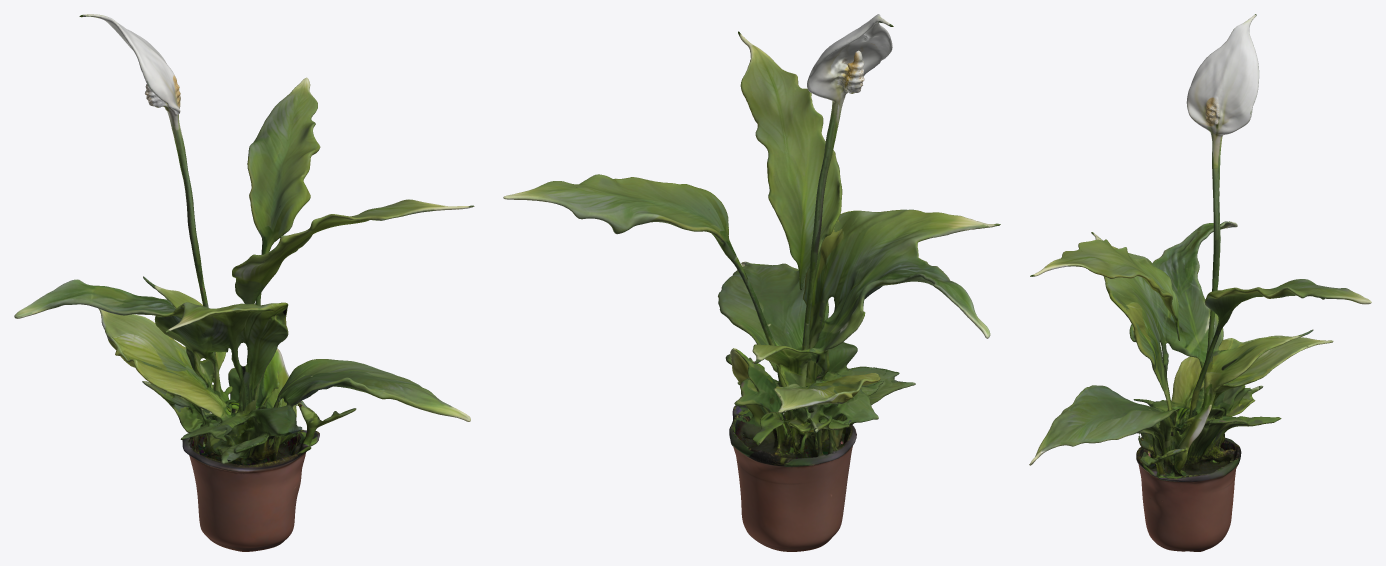
The model's file is Spathiphyllum.glb.
3 views of the same model, side by side, from view 1: azimuth 30°, elevation 25°; view 2: azimuth 150°, elevation 25°; view 3: azimuth 270°, elevation 25° (orthographic). The views are drawn at different scales.
Bounding box in the file's own units: 1.47 × 2 × 1.32.
Materials: 1 (1 with a texture image).
